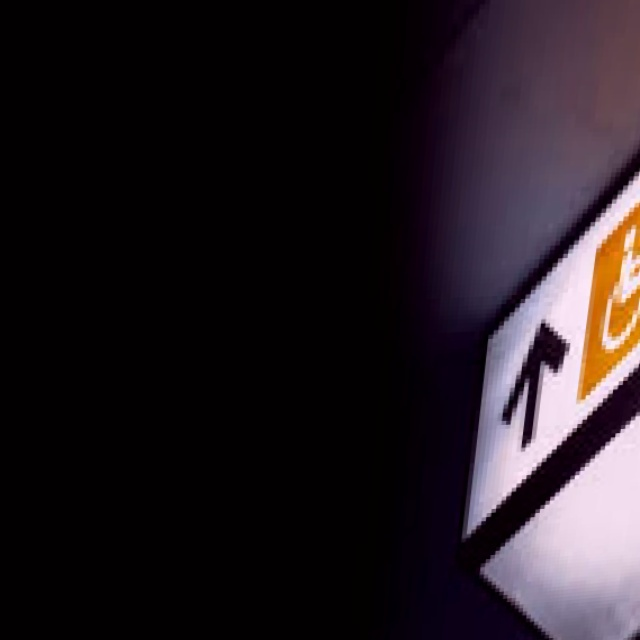ISA: (597, 217, 640, 350)
